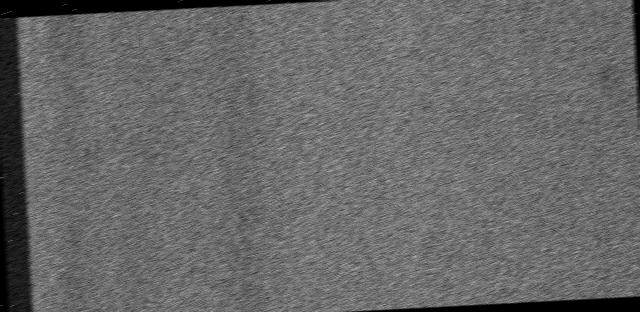water_spot: (576, 46, 630, 134)
